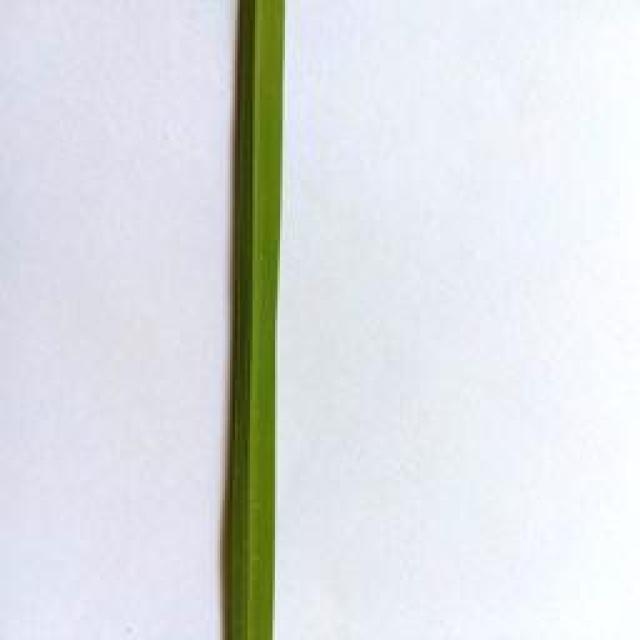Healthy-Plant: (219, 0, 292, 640)
